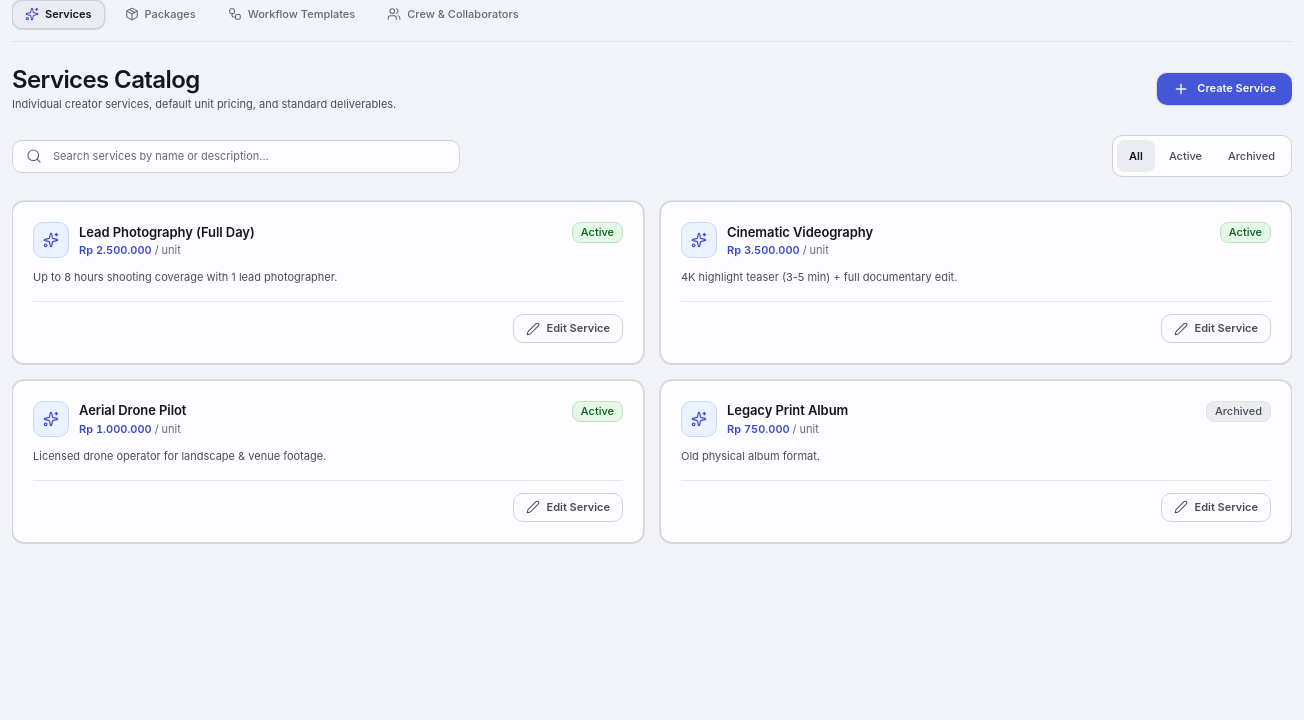
Test case: ServicesListRoute (CAT-REQ-001 / CAT-REQ-003) › filters services when typing in search input
Expected: the heading "Lead Photography (Full Day)" is shown, [79,223,255,241]
Expected: the heading "Aerial Drone Pilot" is shown, [79,401,186,420]
In the field with placeholder "Search services by name or description...": (236,156) [12,140,460,173], type "Drone"
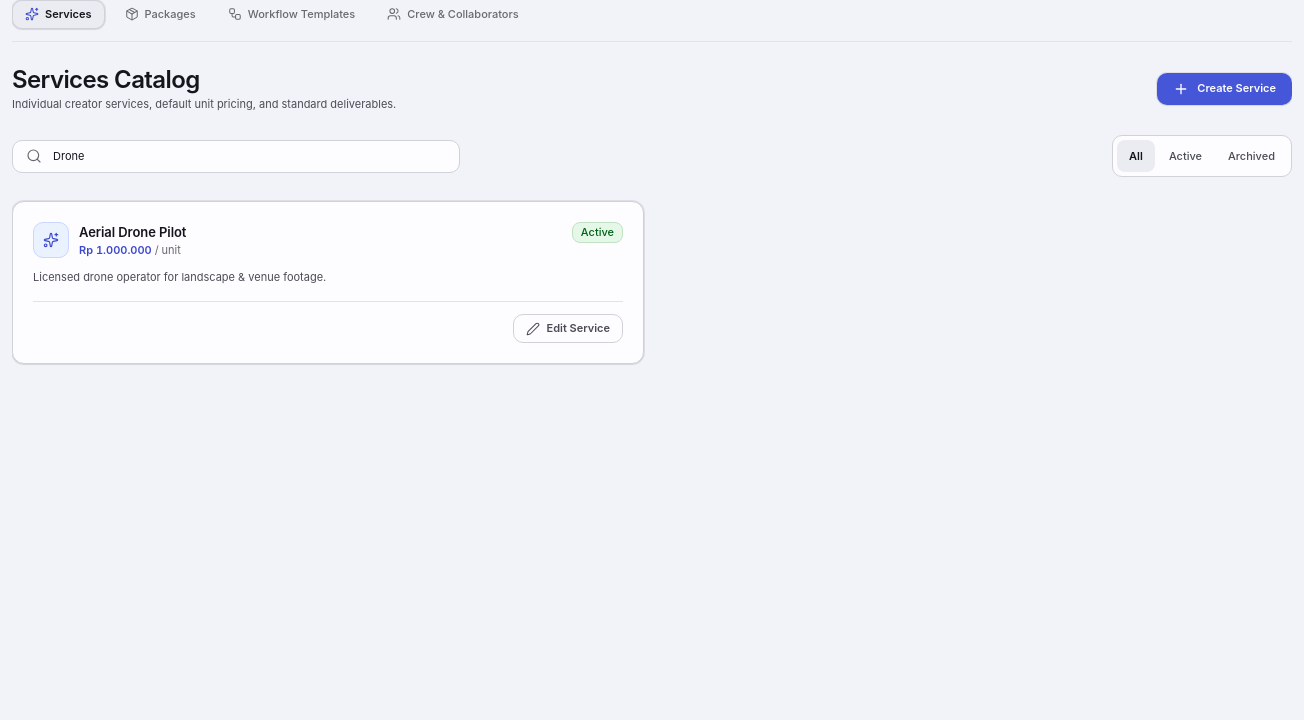
Expected: the heading "Aerial Drone Pilot" is shown, [79,223,186,241]
Expected: the heading "Lead Photography (Full Day)" is gone
